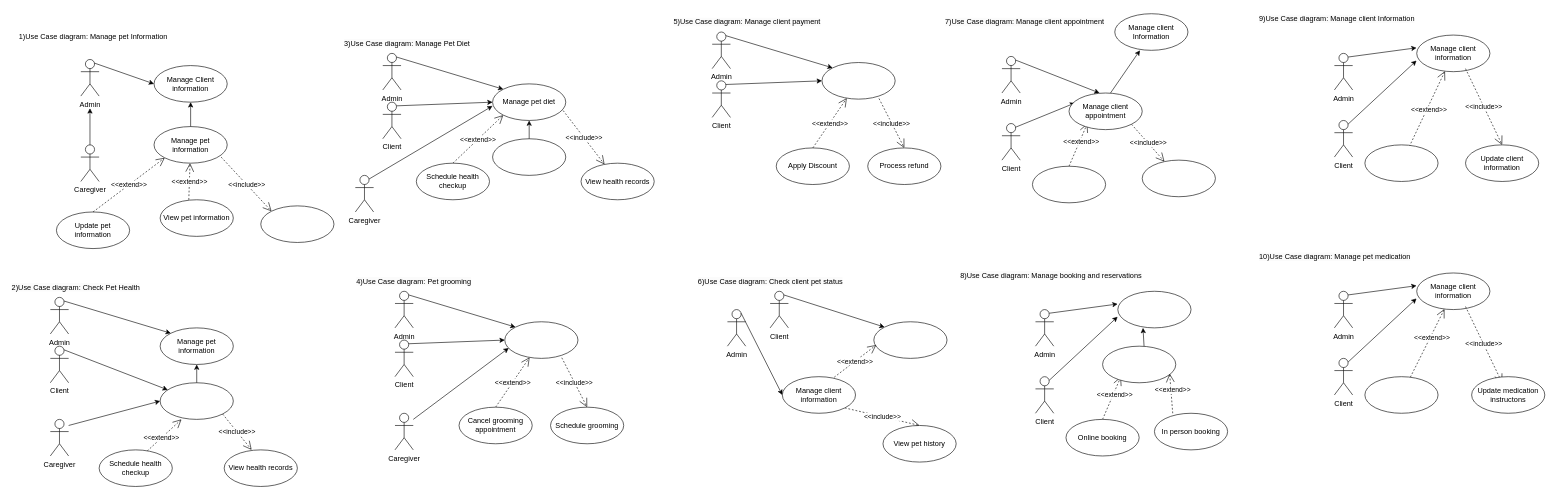
Image size: 1556x497. Some labels were removed from this diagram. Here are the shapes that lost their labels. From the top down, the centre of each, then its label:
point 858,80: Manage client payment
point 529,156: Meal preparation
point 1401,162: Delete client information
point 1069,184: Cancel appointment
point 1178,178: Update appointment details
point 297,223: Add pet information
point 1154,309: Manage booking and reservations
point 541,339: Pet grooming
point 910,339: Check client Pet status
point 1139,364: General booking
point 196,400: Check pet health
point 1401,394: Schedule medication administration
